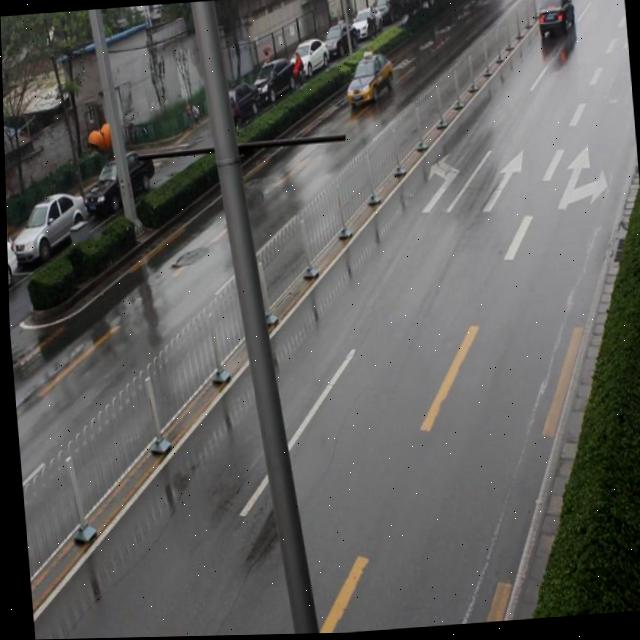car: (339, 48, 395, 115), (531, 0, 576, 43)
